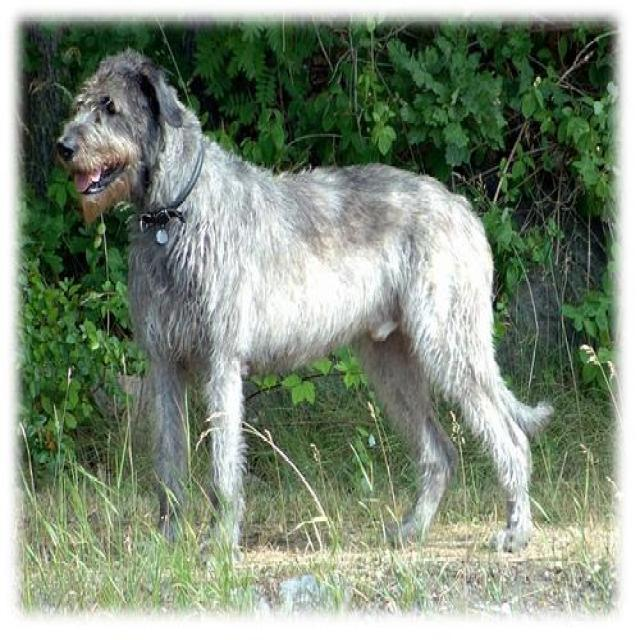irish_wolfhound: (53, 43, 556, 548)
